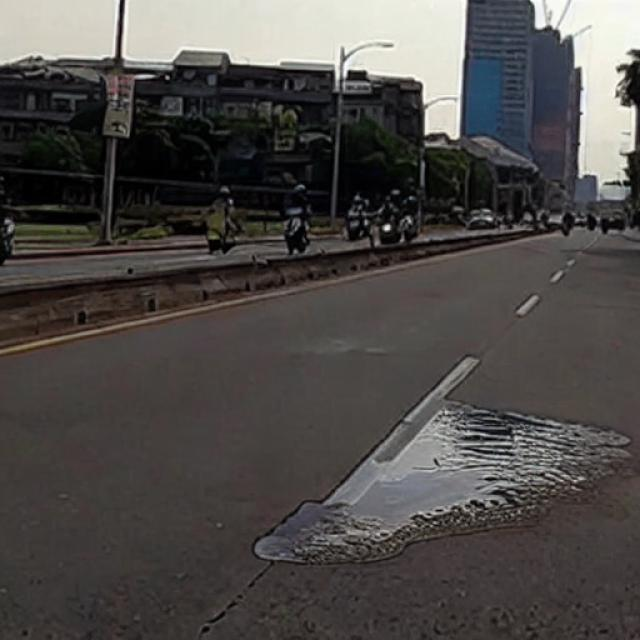puddle: (257, 402, 634, 566)
